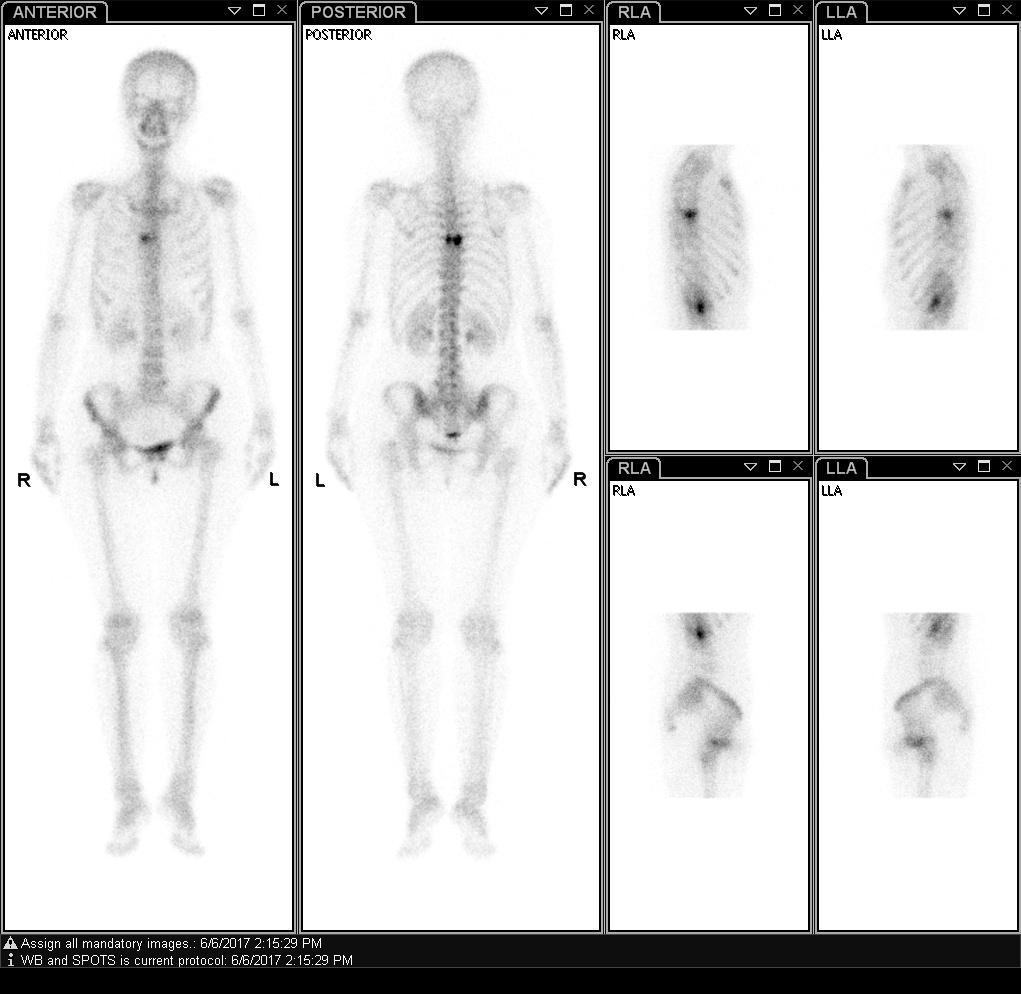person: (6, 25, 604, 931)
